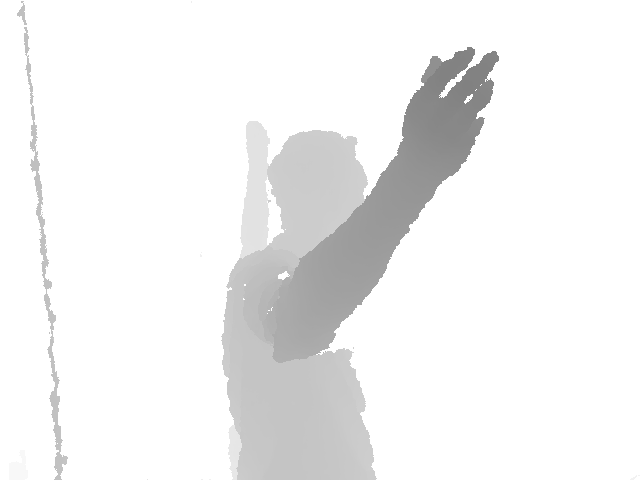hand: (396, 45, 501, 184), (244, 119, 270, 161)
head: (265, 129, 369, 245)
person: (219, 45, 501, 479), (227, 119, 270, 480)
